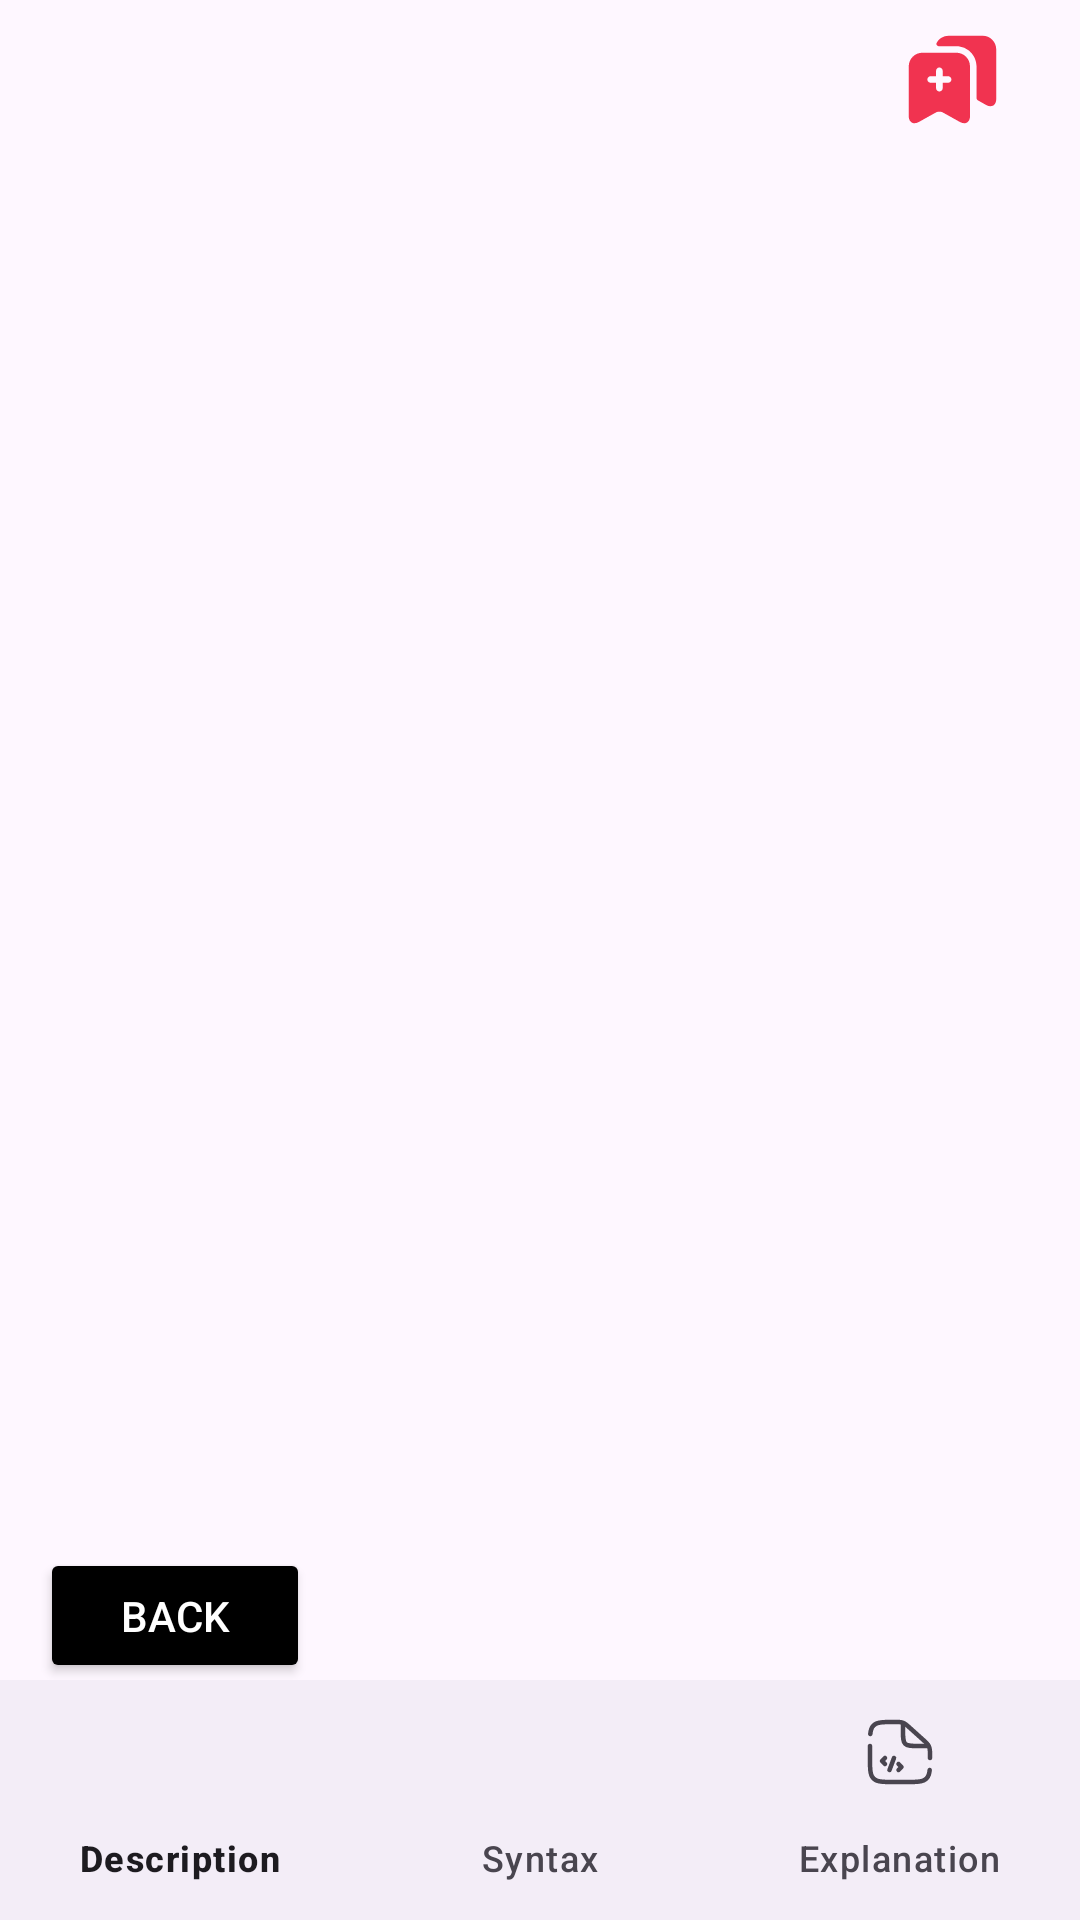

Named icons in this screenshot (1080px x 1920px) and their bounding boxes, (x1, y1, x2, y2):
save add: (908, 35, 997, 124)
